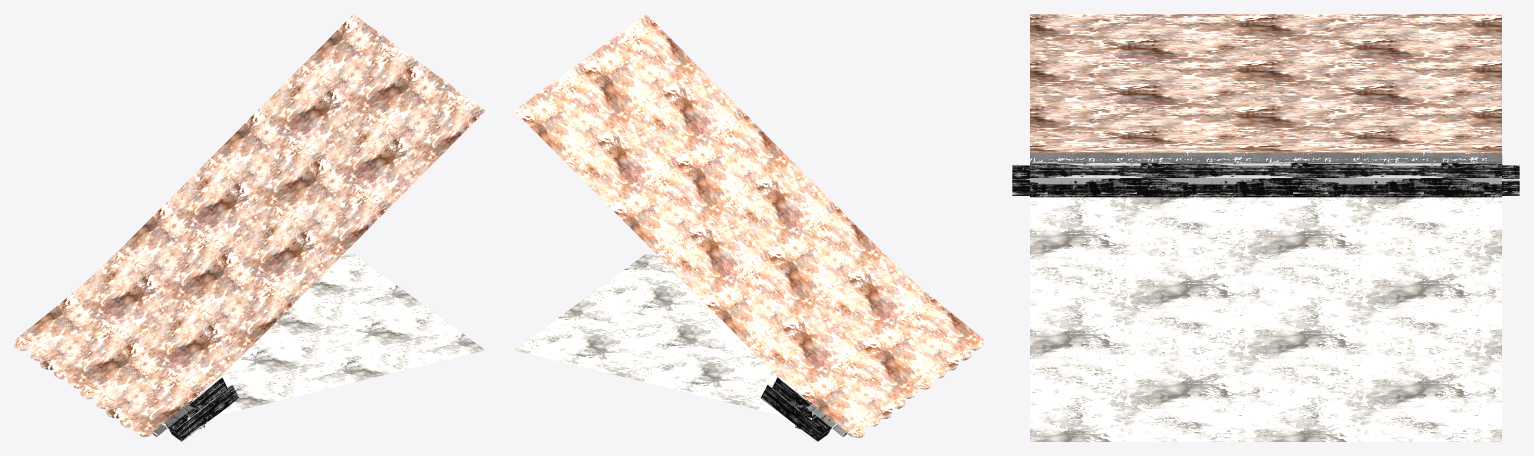
File: SM_roof_A_part_4_02_01.fbx
3 views of the same model, side by side, from view 1: azimuth 30°, elevation 25°; view 2: azimuth 150°, elevation 25°; view 3: azimuth 270°, elevation 25° (orthographic). The views are drawn at different scales.
Visible parts, largest first — view 1: SM_roof_A_part_4_02_01_LOD0; view 2: SM_roof_A_part_4_02_01_LOD0; view 3: SM_roof_A_part_4_02_01_LOD0.
Part boxes in pixels (bbox=[...]): SM_roof_A_part_4_02_01_LOD0: bbox=[14, 14, 485, 441]; SM_roof_A_part_4_02_01_LOD0: bbox=[514, 14, 983, 441]; SM_roof_A_part_4_02_01_LOD0: bbox=[1012, 14, 1519, 441].
Bounding box in the file's own units: 601 × 430 × 421.
Materials: 5 (5 with a texture image).
